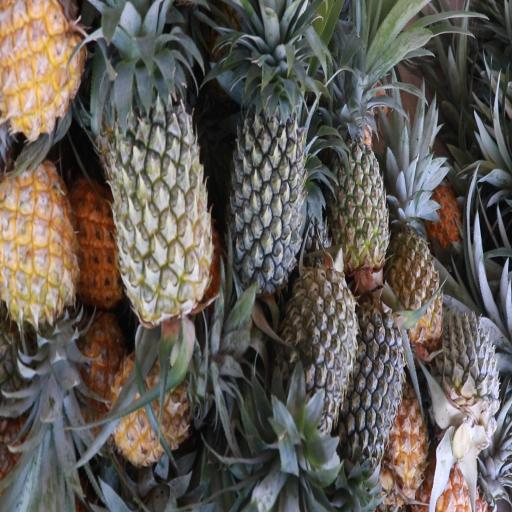------------------------------: (102, 50, 214, 327), (331, 88, 391, 273)
Pineapple - v8 v1: (0, 154, 84, 327), (107, 336, 211, 470), (0, 0, 82, 143), (369, 381, 435, 512), (390, 196, 442, 343)
